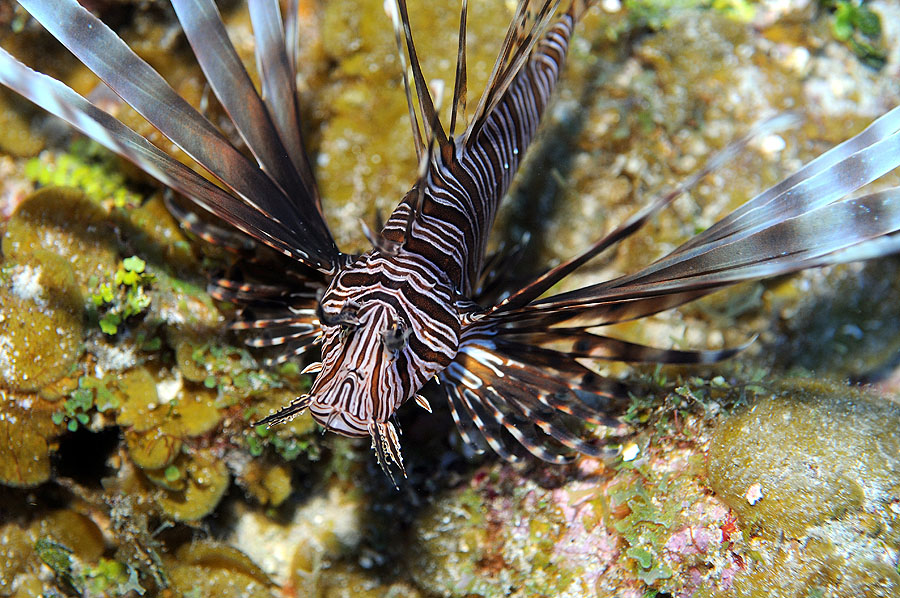Pterois_volitans: (10, 1, 874, 498)
